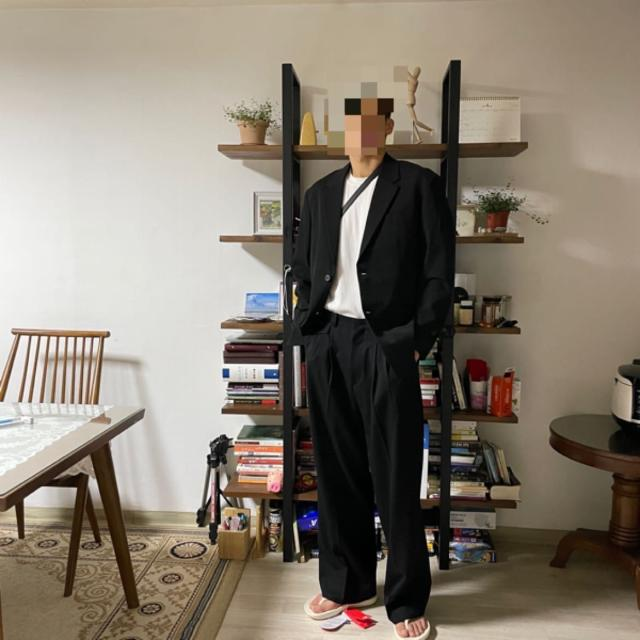blazer: (293, 157, 461, 360)
slacks: (316, 309, 437, 621)
